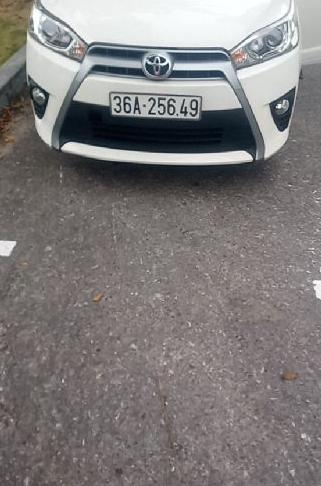Plate-iWeP: (108, 91, 203, 119)
